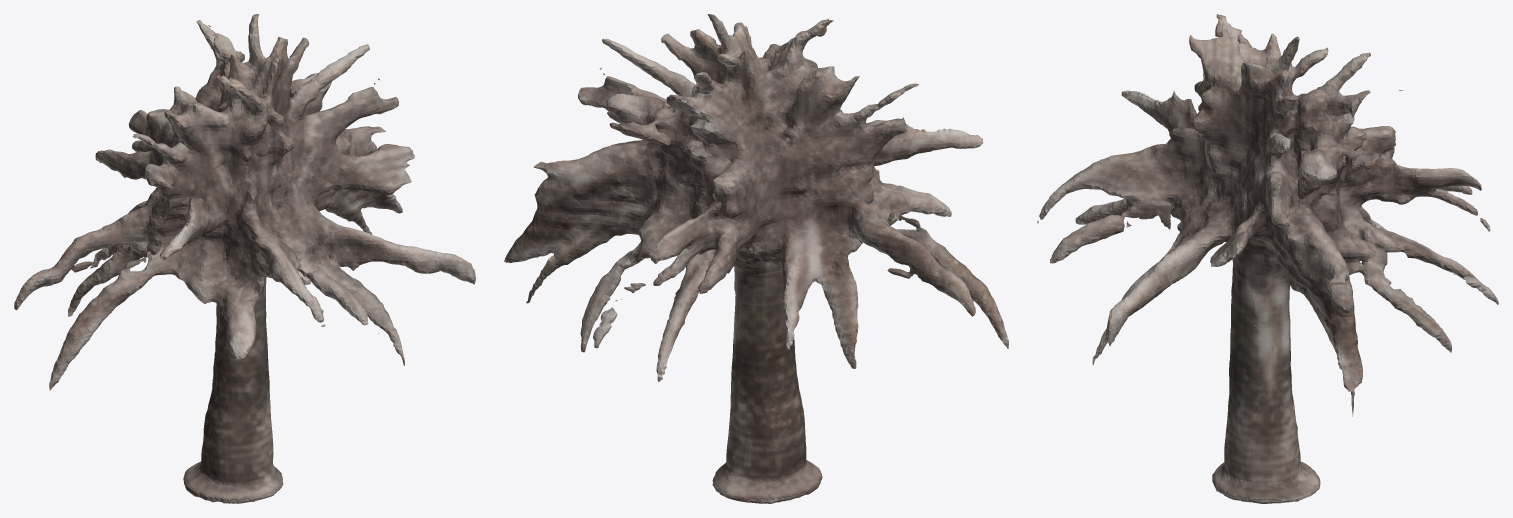
Rendered from palmera-chonca.glb.
3 renders of one model, left to right at view 1: azimuth 30°, elevation 25°; view 2: azimuth 150°, elevation 25°; view 3: azimuth 270°, elevation 25°, orthographic. The views are drawn at different scales.
Visible parts, largest first — view 1: world; view 2: world; view 3: world.
Boxes of the visible parts, x1,y1,x2,y2 form: world: (14,14,475,503); world: (504,14,1008,503); world: (1037,14,1498,503).
Bounding box in the file's own units: 1.93 × 1.99 × 1.78.
